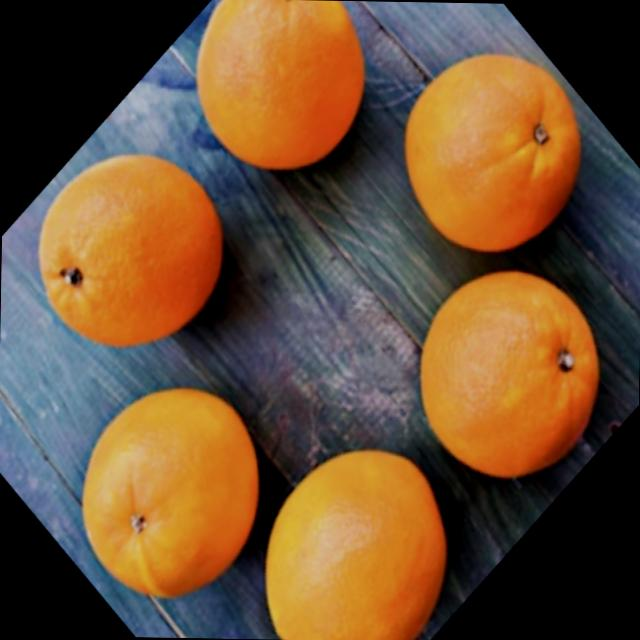orange: (65, 362, 273, 605), (405, 258, 613, 487), (24, 142, 246, 352), (394, 37, 588, 264), (257, 431, 452, 640), (185, 0, 381, 180)
